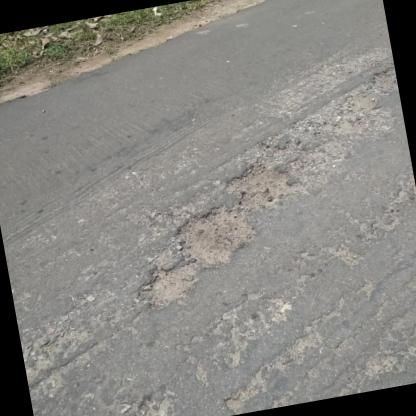pothole: (314, 62, 404, 139), (170, 199, 262, 273), (221, 154, 298, 216), (135, 260, 202, 314)
